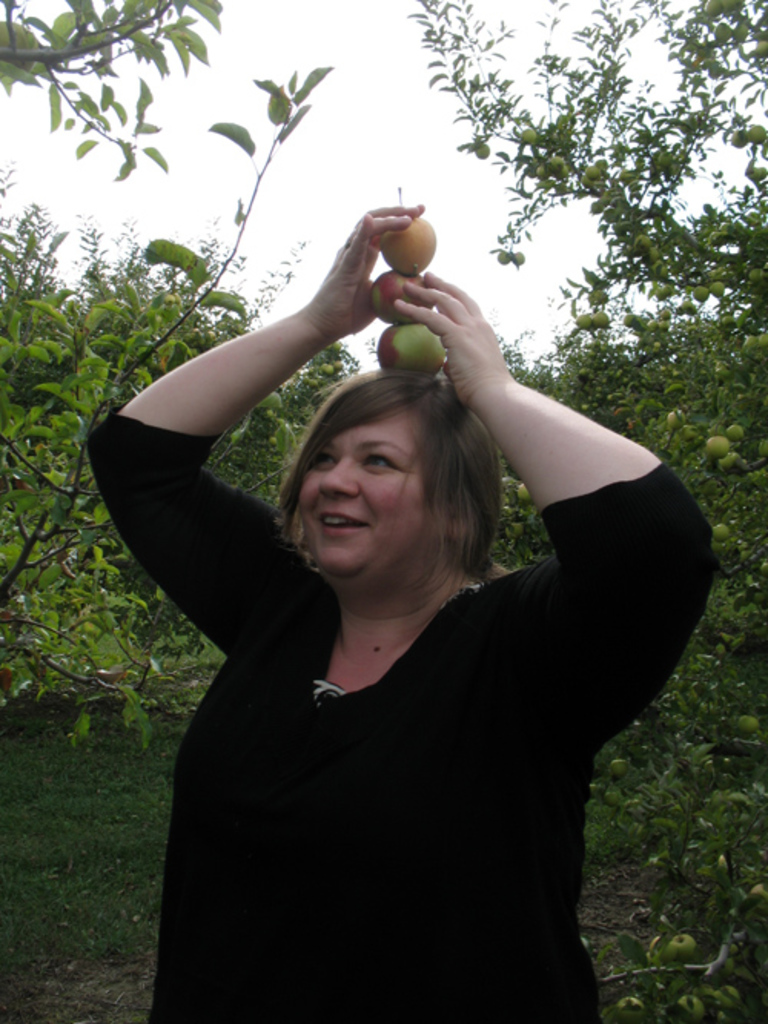Apple: (473, 0, 766, 1022), (258, 340, 345, 455), (368, 316, 460, 396), (365, 267, 433, 320), (380, 214, 436, 273)
